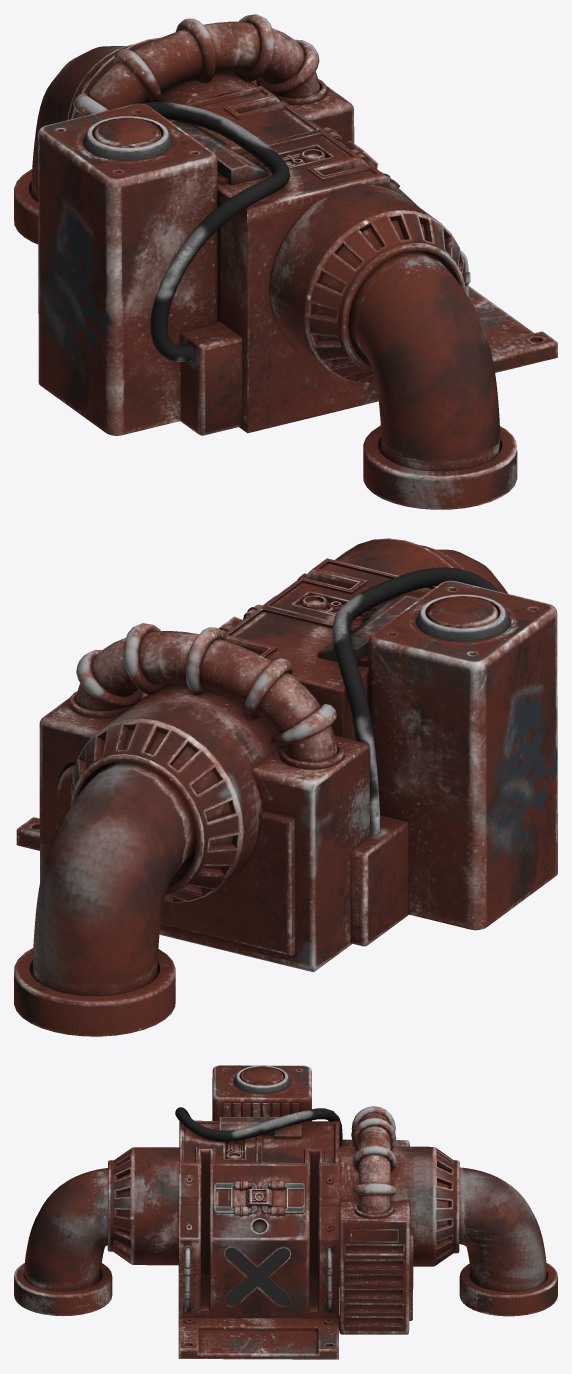
Rendered from Steam Punk Engine.glb.
3 renders of one model, top to bottom at view 1: azimuth 30°, elevation 25°; view 2: azimuth 150°, elevation 25°; view 3: azimuth 270°, elevation 25°, orthographic. The views are drawn at different scales.
Parts seen in each view (by area): view 1: Plane; view 2: Plane; view 3: Plane.
Boxes of the visible parts, x1,y1,x2,y2 form: Plane: (14, 14, 557, 509); Plane: (14, 538, 557, 1036); Plane: (14, 1065, 557, 1359).
Bounding box in the file's own units: 3.63 × 2.29 × 6.39.
2 materials, 1 textured.
